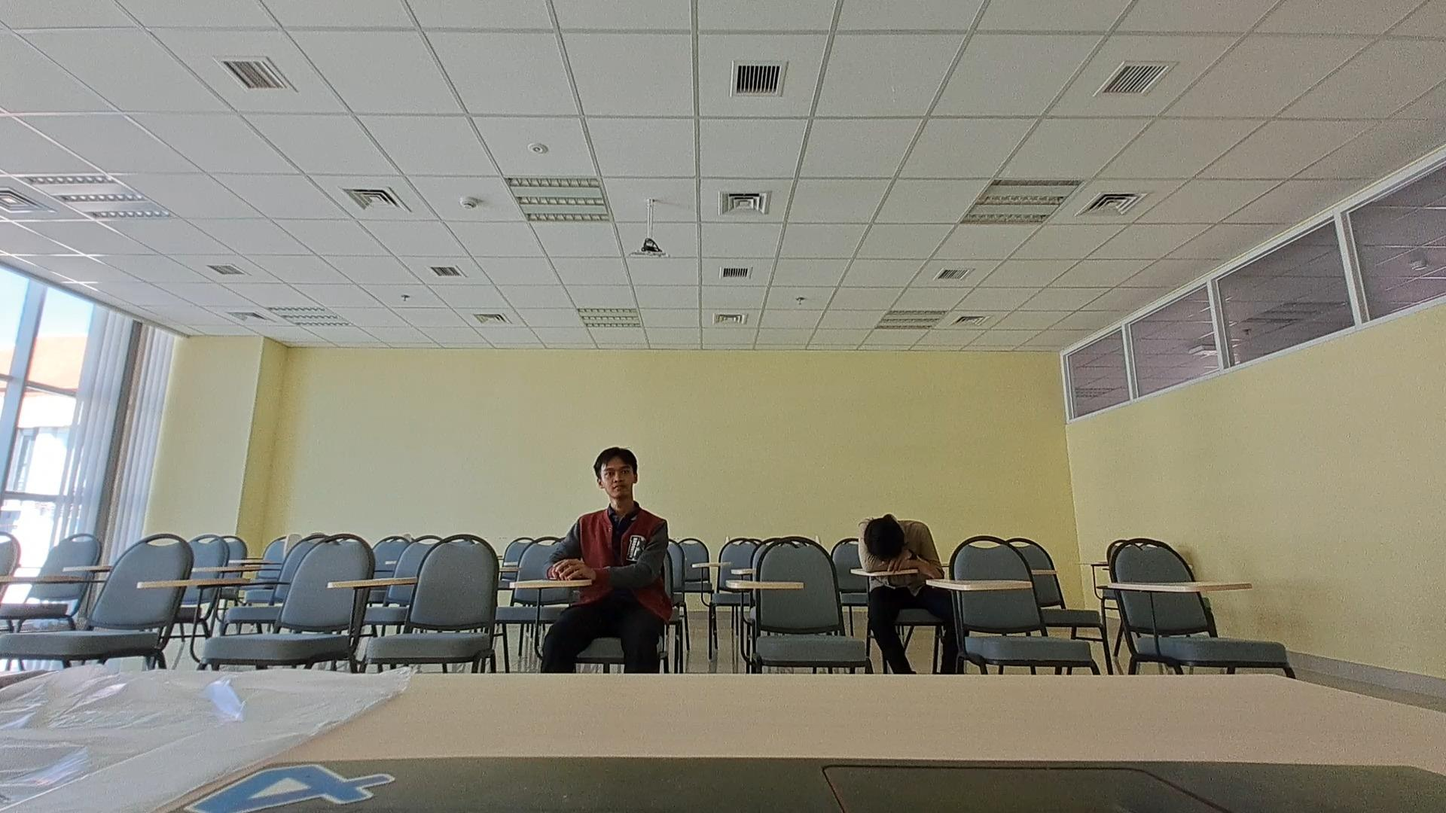sleep: (855, 514, 943, 571)
study: (552, 443, 667, 572)
